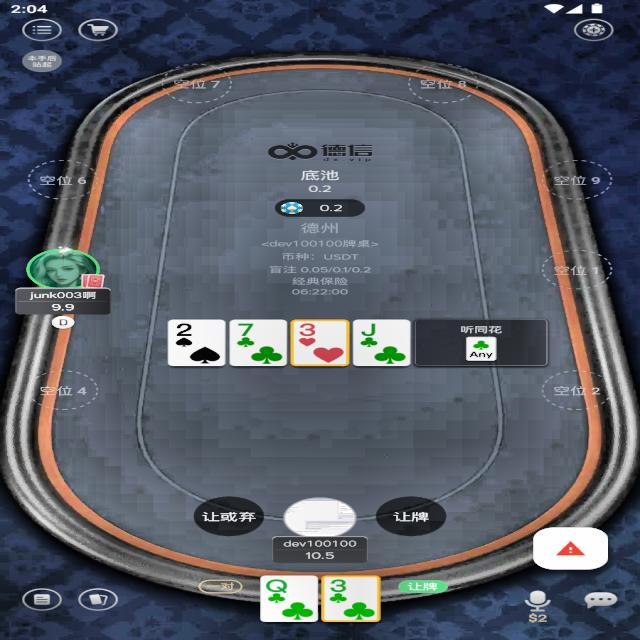2s: (173, 322, 199, 338)
3h: (295, 321, 323, 338)
3m: (325, 578, 356, 594)
7m: (232, 322, 258, 338)
Jm: (359, 321, 382, 338)
Qm: (264, 578, 291, 594)
